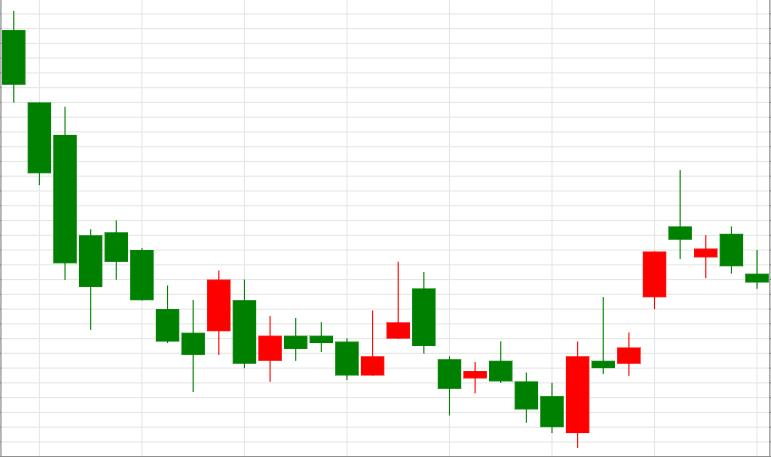bullish_engulfing_rise: (413, 273, 589, 447)
